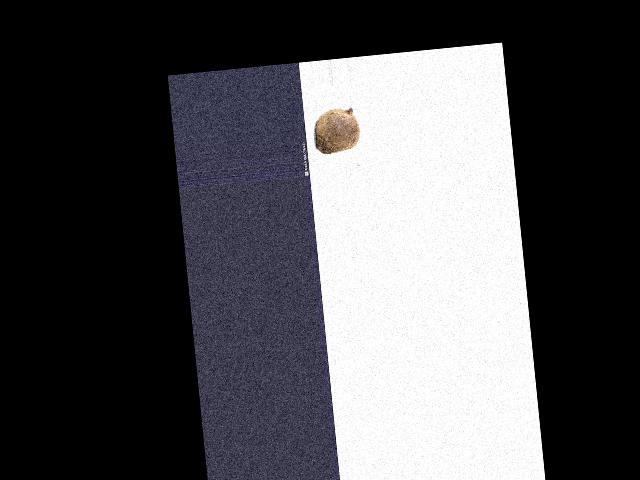beet: (312, 106, 361, 154)
